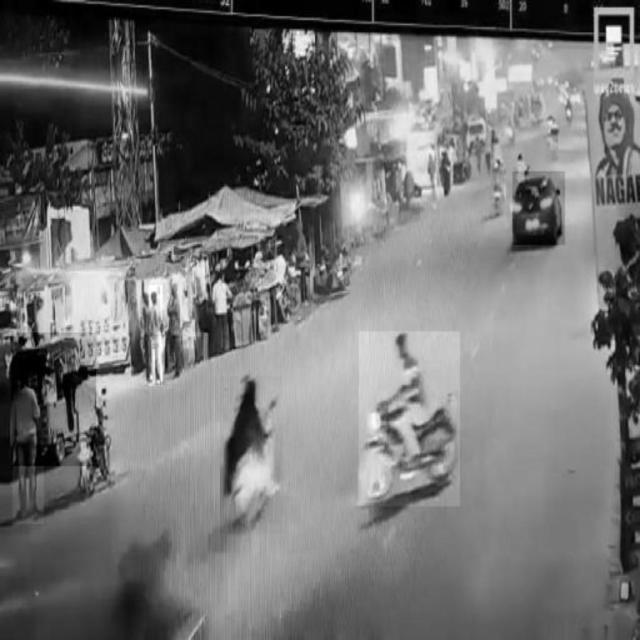person: (13, 364, 43, 524), (149, 285, 163, 386)
vehicle: (359, 332, 460, 507), (12, 333, 96, 467), (220, 377, 282, 534), (73, 355, 117, 499), (513, 172, 565, 245)
